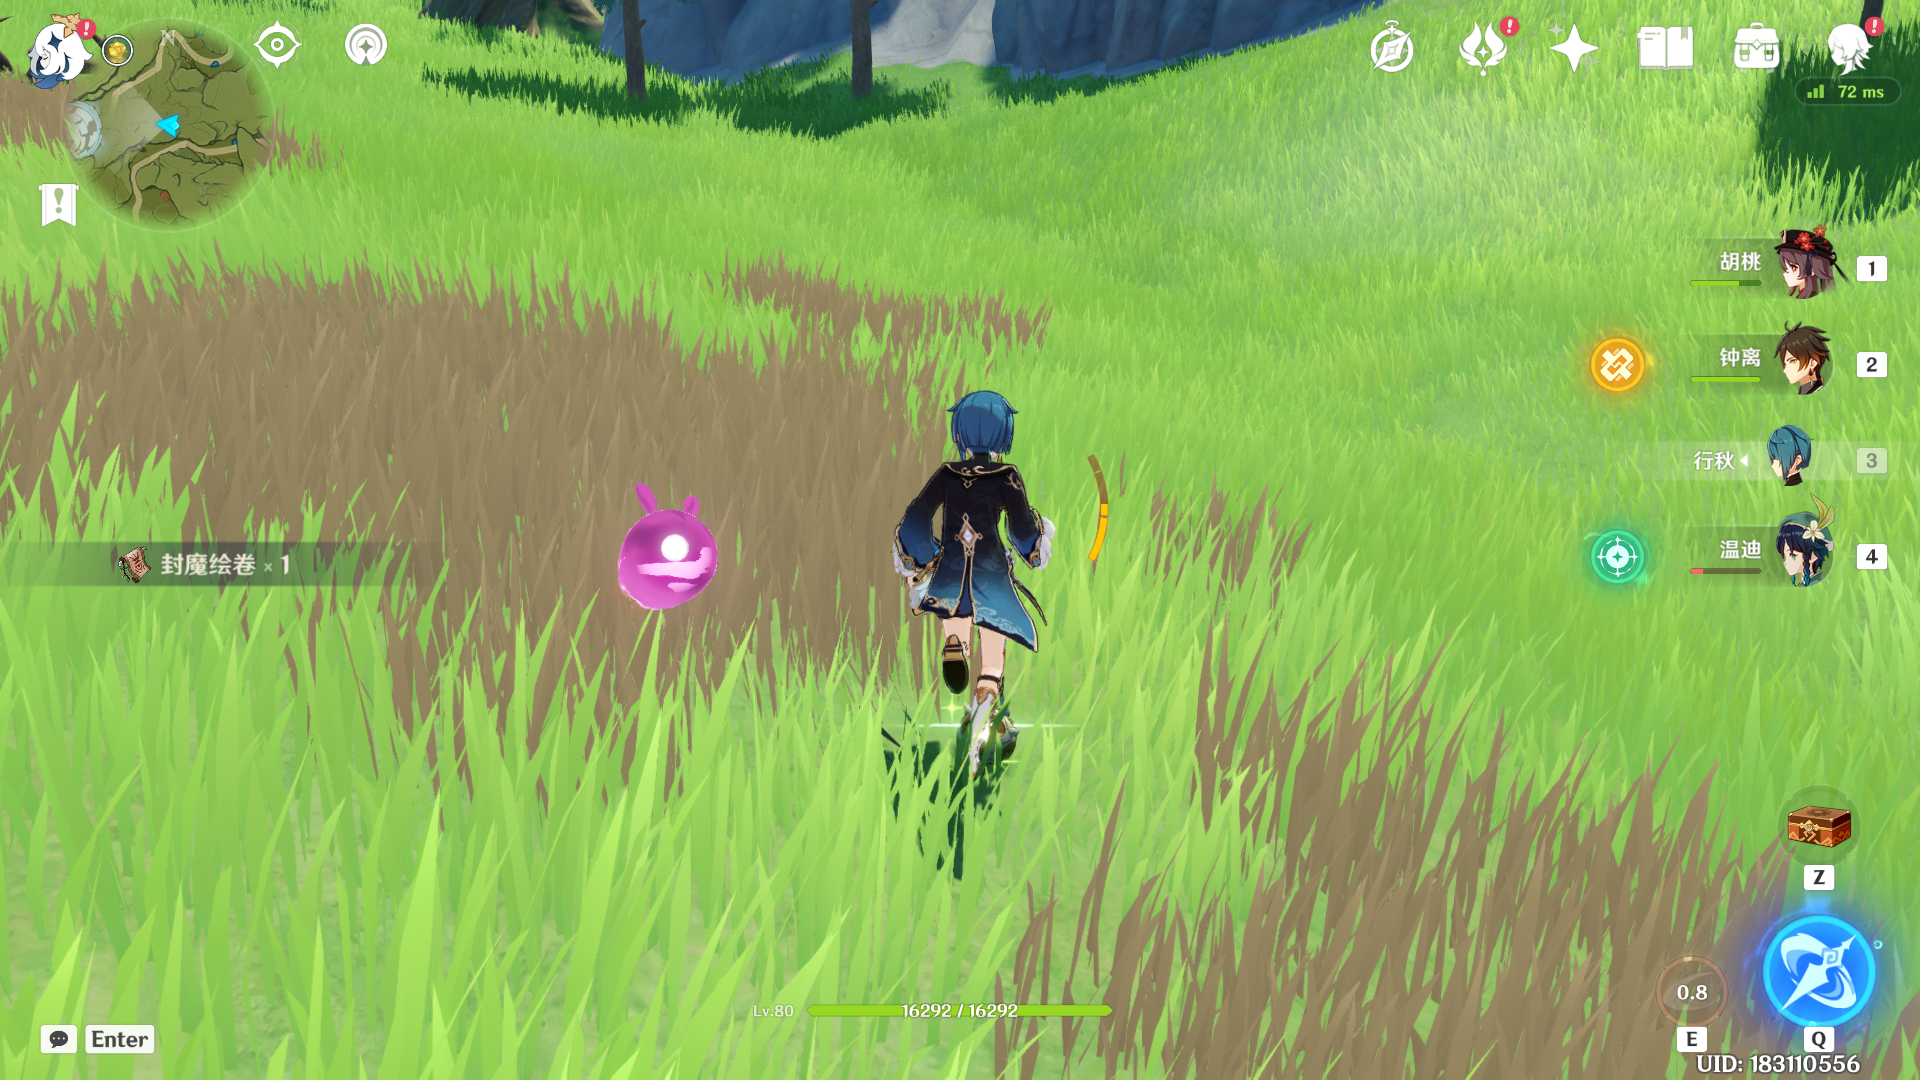character: (825, 371, 1113, 794)
